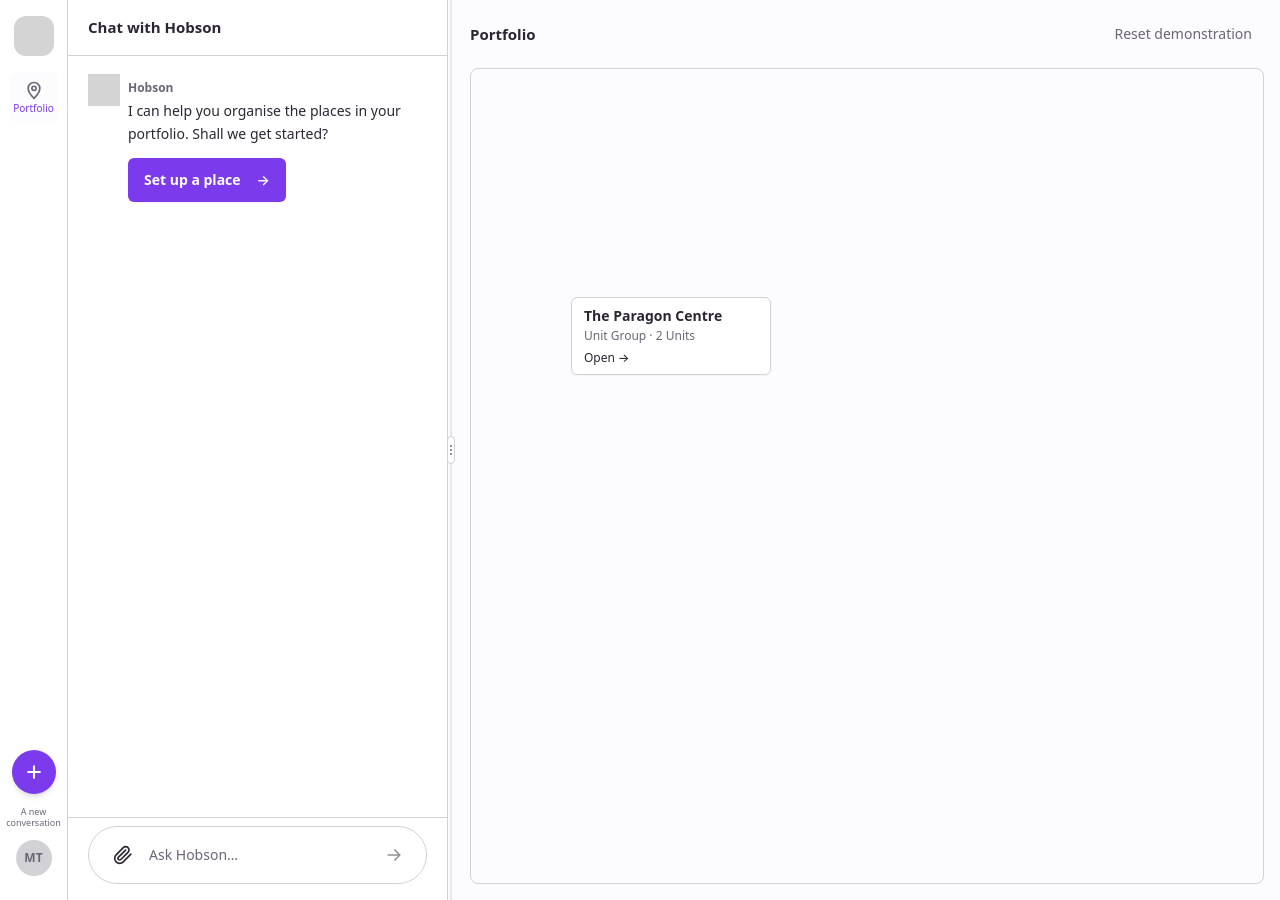
Test case: Prototype Unit opening setup › accepts a typed setup reply and selection through the existing composer
Type "Set up a place" into the field labelled "Ask Hobson" at [260, 855], box [149, 845, 370, 865]
Then press Enter
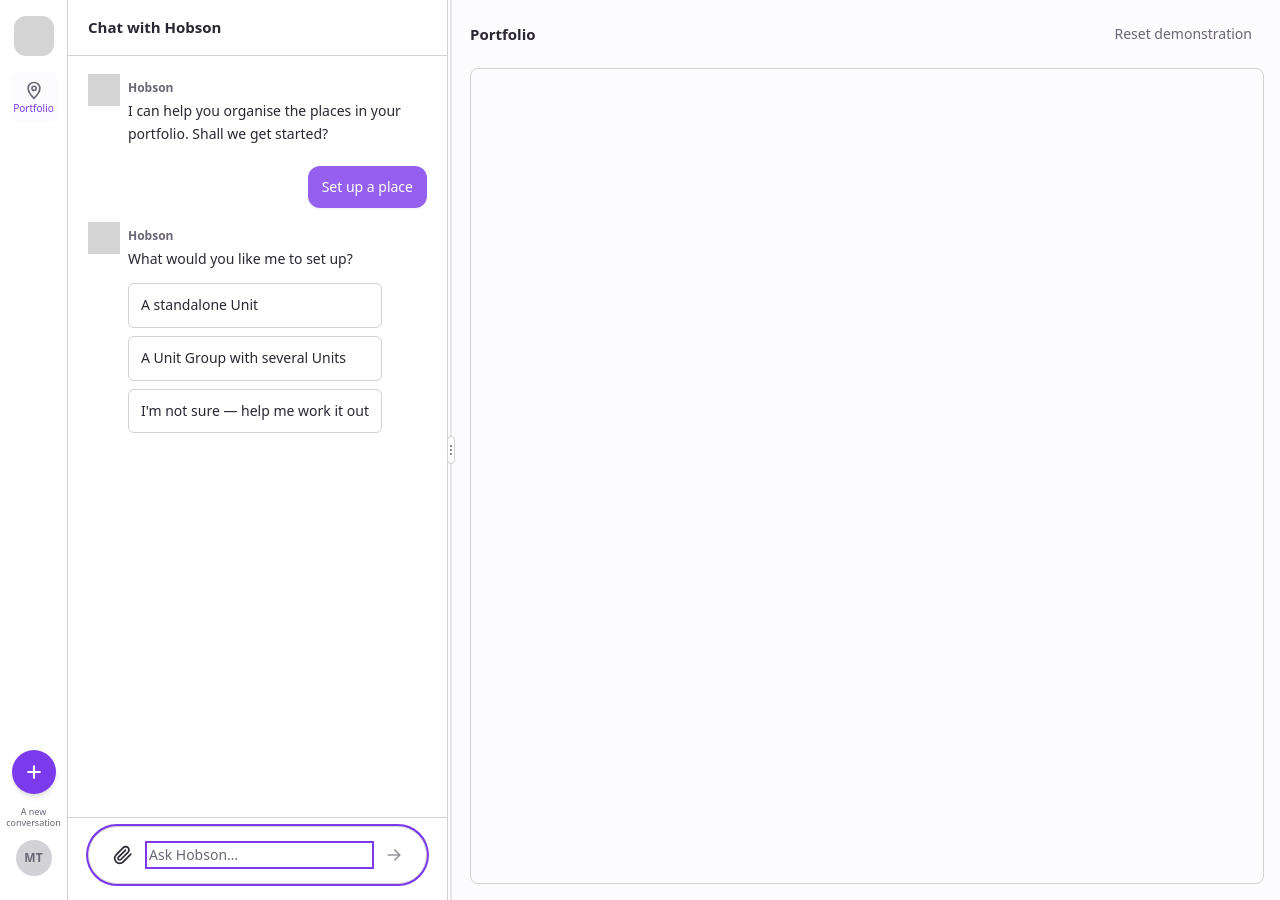
Type "A standalone Unit" into the field labelled "Ask Hobson" at [260, 855], box [149, 845, 370, 865]
Then press Enter
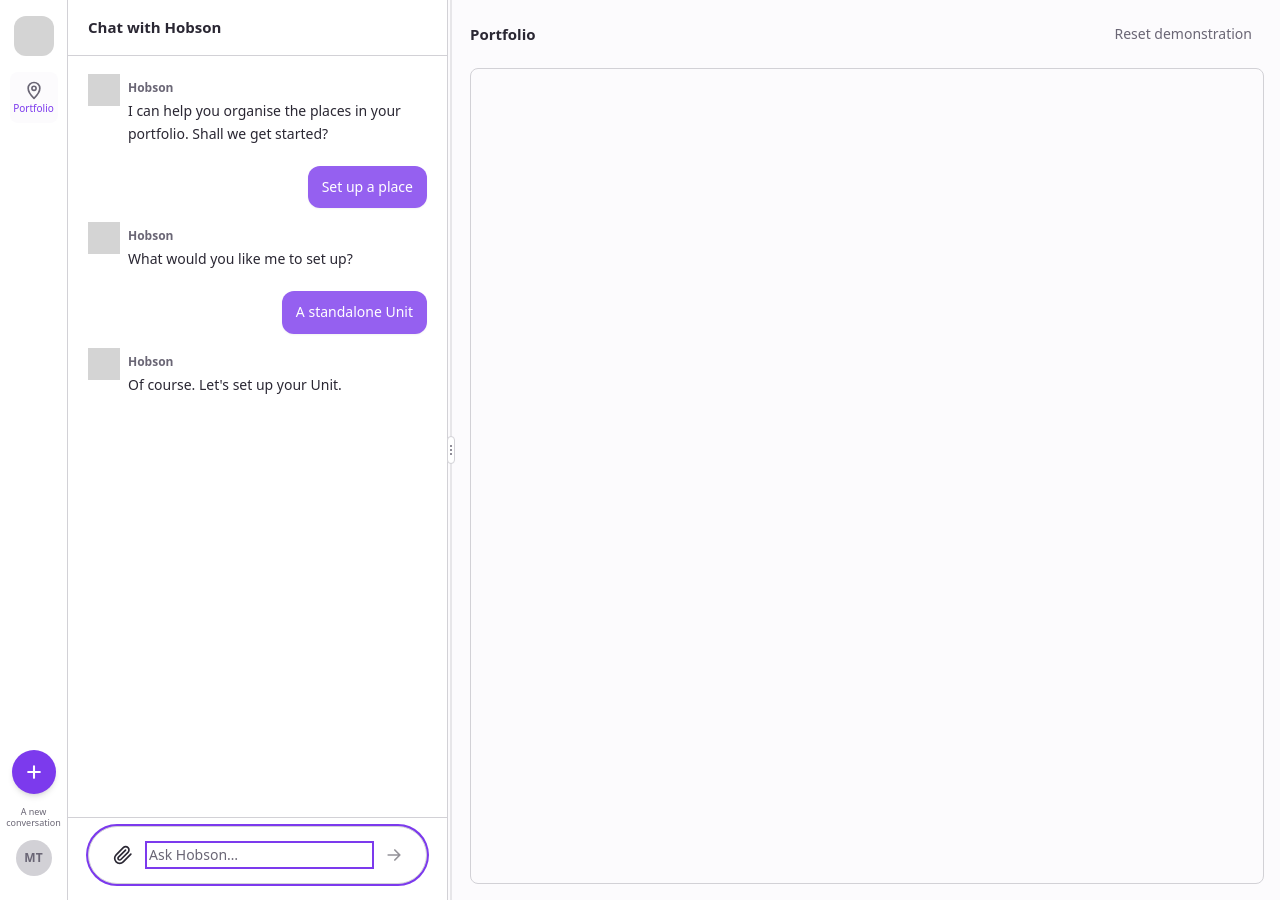
expect no the button "A Unit Group with several Units" are shown: met
expect the text "A standalone Unit" is shown once: met, box [296, 301, 413, 324]
